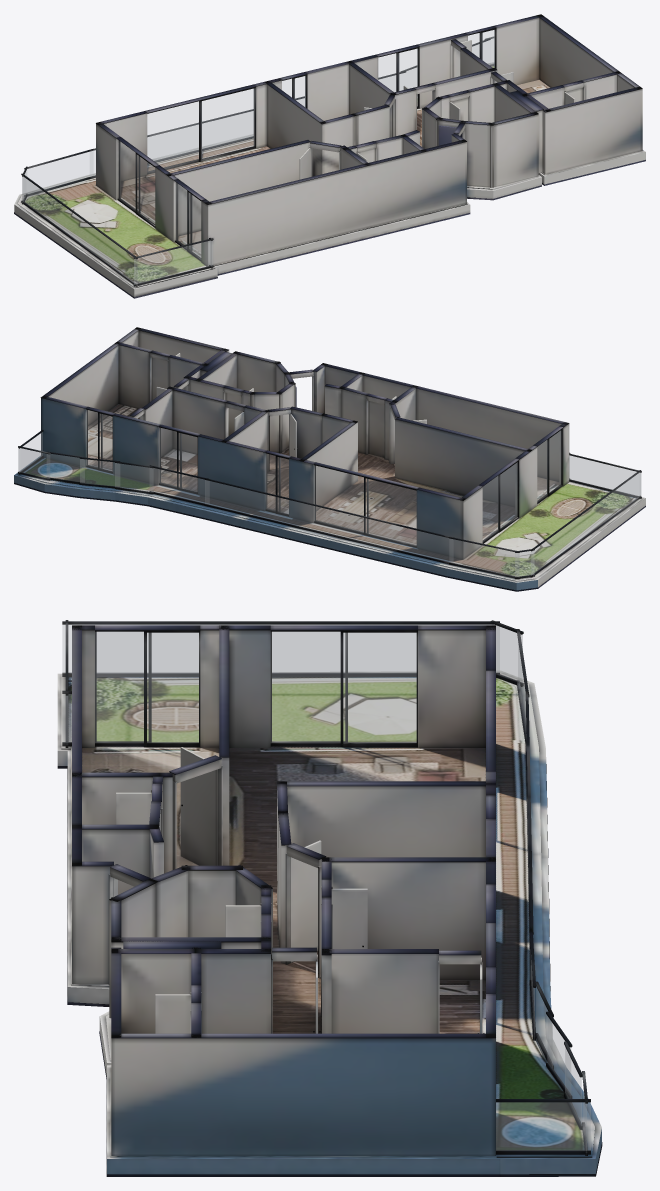
3 views of the same model, one above another, from view 1: azimuth 30°, elevation 25°; view 2: azimuth 150°, elevation 25°; view 3: azimuth 270°, elevation 25° (orthographic). The views are drawn at different scales.
Parts seen in each view (by area): view 1: plan, glass0_m, railg3_m, railg9_m, glass1_m, railg0_m, railg10_m, glass4_m, glass2_m, glass5_m, glass3_m; view 2: plan, railg9_m, glass0_m, railg3_m, glass4_m, glass1_m, railg10_m, railg0_m, railg8_m, glass5_m, glass2_m, glass3_m (+6 smaller); view 3: plan, glass1_m, glass2_m, railg3_m, railg1_m, railg11_m, railg7_m.
Part boxes in pixels (x1,y1,x2,y2): plan: (14, 14, 645, 298); glass0_m: (147, 89, 254, 171); railg3_m: (22, 177, 137, 284); railg9_m: (90, 98, 304, 176); glass1_m: (118, 141, 154, 224); railg0_m: (134, 241, 212, 284); railg10_m: (25, 151, 93, 193); glass4_m: (378, 49, 417, 106); glass2_m: (176, 183, 200, 257); glass5_m: (468, 30, 494, 67); glass3_m: (282, 76, 305, 107); plan: (14, 327, 645, 591); railg9_m: (205, 480, 453, 562); glass0_m: (315, 466, 416, 544); railg3_m: (531, 473, 640, 575); glass4_m: (160, 428, 197, 491); glass1_m: (483, 462, 517, 541); railg10_m: (449, 539, 519, 576); railg0_m: (569, 456, 641, 496); railg8_m: (150, 468, 208, 504); glass5_m: (87, 410, 112, 470); glass2_m: (537, 431, 560, 501); glass3_m: (266, 454, 288, 513); plan: (57, 620, 602, 1176); glass1_m: (271, 632, 416, 742); glass2_m: (95, 632, 198, 742); railg3_m: (62, 625, 499, 672); railg1_m: (496, 1102, 590, 1150); railg11_m: (496, 625, 522, 682); railg7_m: (547, 1016, 570, 1094).
Size of the model in its own units: 20.02 by 2.62 by 9.43.
2 materials, 1 textured.
